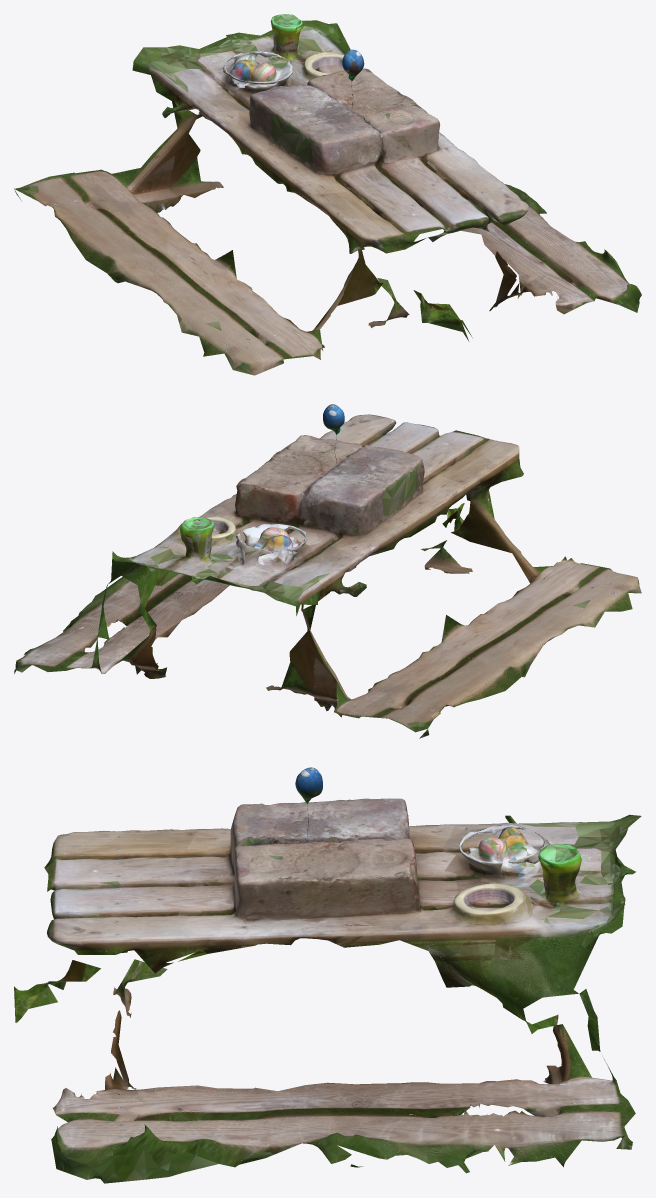
The model's file is egg.glb.
The picture shows the model from 3 angles, top to bottom: view 1: azimuth 30°, elevation 25°; view 2: azimuth 150°, elevation 25°; view 3: azimuth 270°, elevation 25°; orthographic projection. The views are drawn at different scales.
Visible parts, largest first — view 1: Textured_mesh_1; view 2: Textured_mesh_1; view 3: Textured_mesh_1.
Part boxes in pixels (x1,y1,x2,y2): Textured_mesh_1: (14, 14, 641, 375); Textured_mesh_1: (14, 404, 641, 738); Textured_mesh_1: (14, 767, 641, 1183).
Size of the model in its own units: 57.22 by 30.22 by 58.56.
3 materials, 3 textured.
